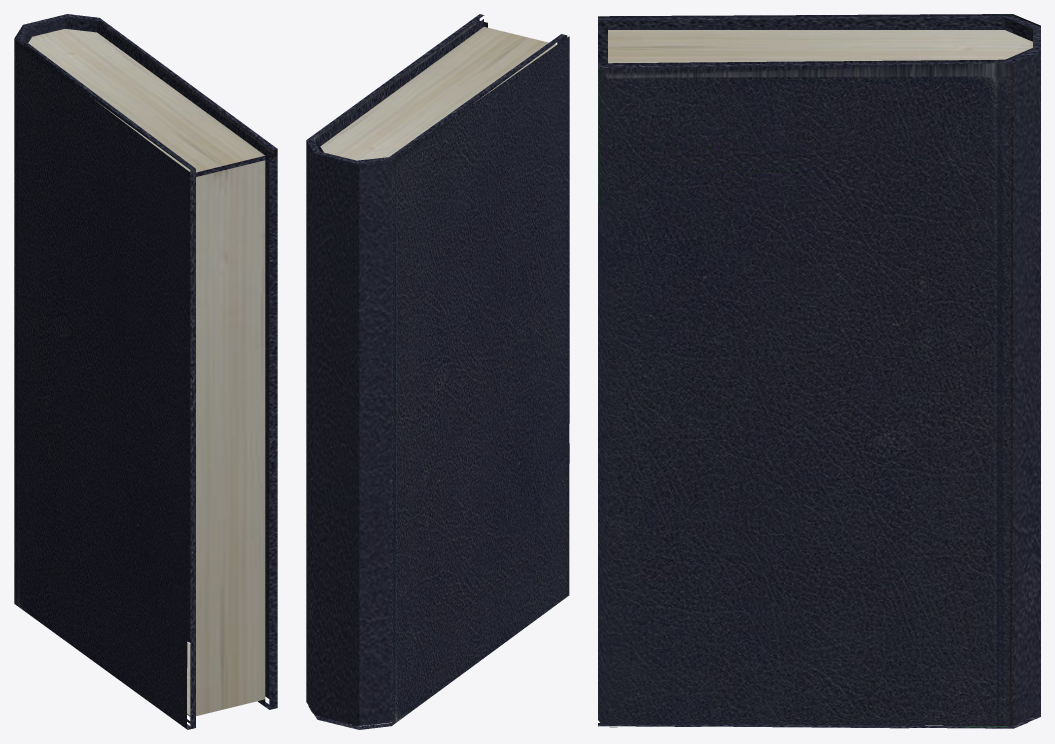
The model's file is Book-withTexture.FBX.
3 renders of one model, left to right at view 1: azimuth 30°, elevation 25°; view 2: azimuth 150°, elevation 25°; view 3: azimuth 270°, elevation 25°, orthographic. The views are drawn at different scales.
Parts seen in each view (by area): view 1: Box001; view 2: Box001; view 3: Box001.
Boxes of the visible parts, left/top/right/bottom form: Box001: left=14, top=14, right=277, bottom=729; Box001: left=306, top=14, right=569, bottom=729; Box001: left=598, top=14, right=1040, bottom=728.
Size of the model in its own units: 1.71 by 10.24 by 6.16.
Materials: 1 (1 with a texture image).
